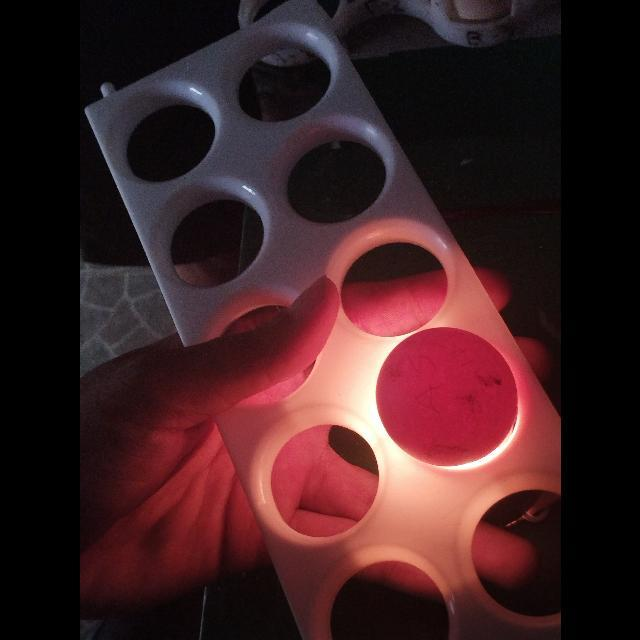Infertile: (374, 323, 522, 472)
